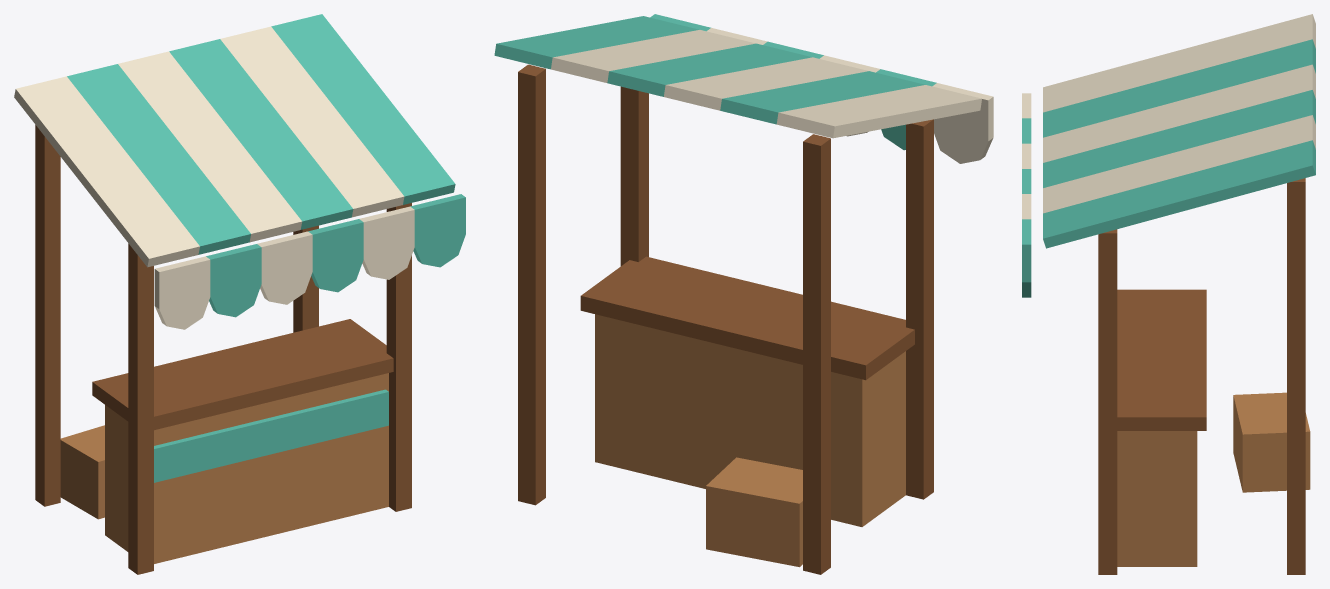
Rendered from stall_booth.glb.
The picture shows the model from 3 angles, left to right: view 1: azimuth 30°, elevation 25°; view 2: azimuth 150°, elevation 25°; view 3: azimuth 270°, elevation 25°; orthographic projection. The views are drawn at different scales.
Parts seen in each view (by area): view 1: stall_booth, counter; view 2: stall_booth, counter; view 3: stall_booth, counter.
Part boxes in pixels (x1,y1,x2,y2): stall_booth: [14, 14, 465, 574]; counter: [92, 319, 393, 563]; stall_booth: [494, 14, 993, 574]; counter: [580, 256, 914, 526]; stall_booth: [1022, 14, 1315, 574]; counter: [1117, 289, 1206, 566].
Size of the model in its own units: 1.9 by 2.44 by 1.56.
